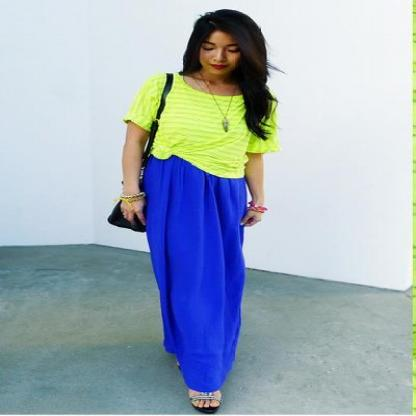bag: (108, 200, 146, 232)
pants: (144, 158, 250, 393)
shirt: (124, 74, 278, 178)
shoe: (162, 391, 218, 415)
